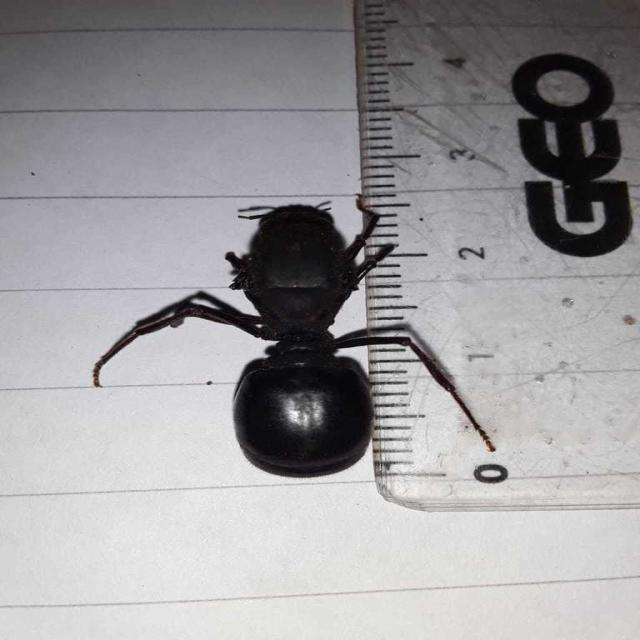Dead-Female-Dealate: (92, 193, 498, 478)
